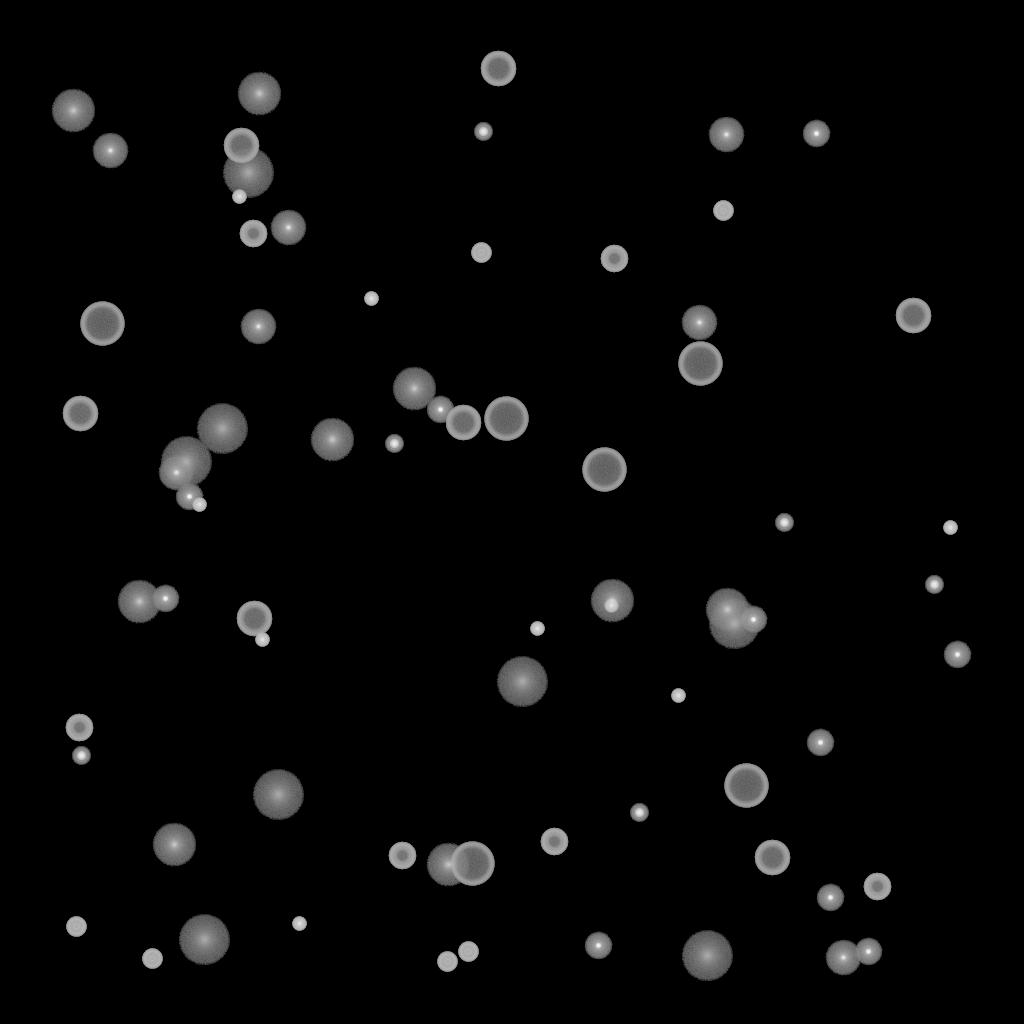depth:-10: (816, 884, 844, 912), (806, 729, 834, 757), (943, 641, 971, 669), (854, 938, 882, 966), (802, 120, 830, 148), (739, 606, 767, 634), (426, 396, 454, 424), (151, 585, 179, 613), (175, 483, 203, 511), (584, 932, 612, 960)
depth:-20: (775, 514, 793, 532), (72, 747, 90, 765), (474, 123, 492, 141), (925, 576, 943, 594), (385, 435, 403, 453), (630, 804, 648, 822)
depth:-30: (604, 599, 618, 613), (943, 521, 957, 535), (232, 190, 246, 204), (192, 498, 206, 512), (671, 689, 685, 703), (364, 292, 378, 306), (292, 917, 306, 931), (530, 622, 544, 636), (255, 633, 269, 647)
depth:-40: (142, 949, 162, 969), (713, 201, 733, 221), (471, 243, 491, 263), (458, 942, 478, 962), (66, 917, 86, 937), (437, 952, 457, 972)
depth:-50: (239, 220, 267, 248), (863, 873, 891, 901), (600, 245, 628, 273), (540, 828, 568, 856), (65, 714, 93, 742), (388, 842, 416, 870)
depth:-60: (480, 51, 516, 87), (895, 298, 931, 334), (754, 840, 790, 876), (62, 396, 98, 432), (223, 128, 259, 164), (445, 405, 481, 441), (236, 601, 272, 637)
depth:-70: (724, 764, 768, 808), (484, 397, 528, 441), (582, 448, 626, 492), (80, 302, 124, 346), (678, 342, 722, 386), (450, 842, 494, 886)
depth:0: (158, 455, 194, 491), (92, 133, 128, 169), (681, 305, 717, 341), (270, 210, 306, 246), (825, 940, 861, 976), (708, 117, 744, 153), (240, 309, 276, 345)
depth:10: (152, 823, 196, 867), (590, 579, 634, 623), (117, 580, 161, 624), (426, 843, 470, 887), (237, 72, 281, 116), (51, 89, 95, 133), (705, 588, 749, 632), (392, 367, 436, 411), (310, 418, 354, 462)
depth:20: (496, 657, 548, 707), (681, 931, 733, 981), (196, 404, 248, 454), (222, 148, 274, 198), (178, 915, 230, 965), (160, 437, 212, 487), (708, 599, 760, 649), (252, 770, 304, 820)
